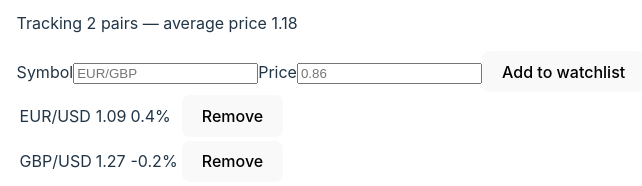
Scenario: <WatchlistApp /> (integration) › removing the last remaining symbol shows the empty state
Click the button "Remove" in the row of "EUR/USD" at (232, 116), box [182,95,283,137]
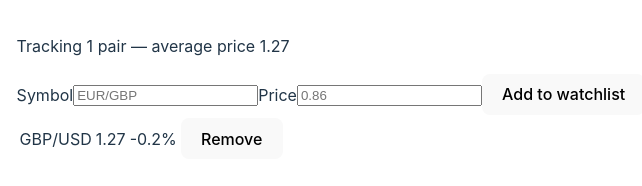
Click the button "Remove" at (232, 139), box [181,118,283,159]
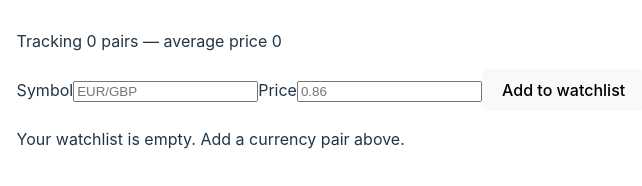
Now the text "Your watchlist is empty. Add a currency pair above." is shown, box [17,129,405,149]
